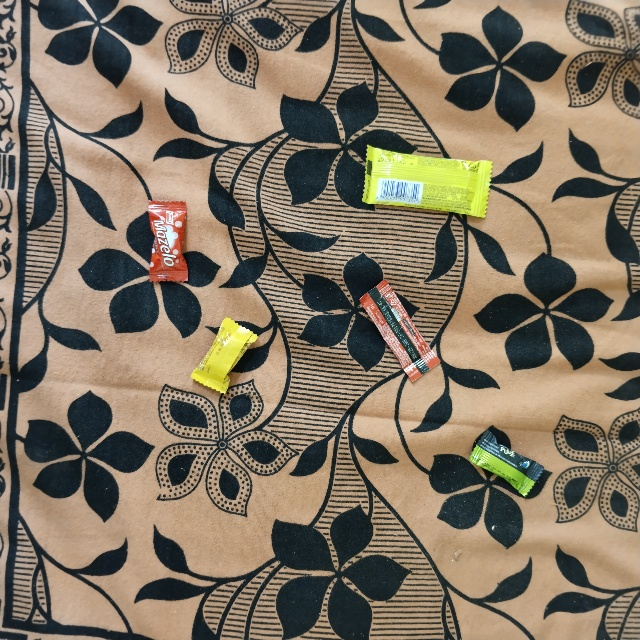Alpenlibe Creamfills: (226, 310, 273, 387)
Mazelo: (145, 196, 193, 283)
Nescafe Coffee: (354, 297, 397, 400)
Orbit: (373, 143, 495, 205)
Pulse: (491, 420, 574, 464)
